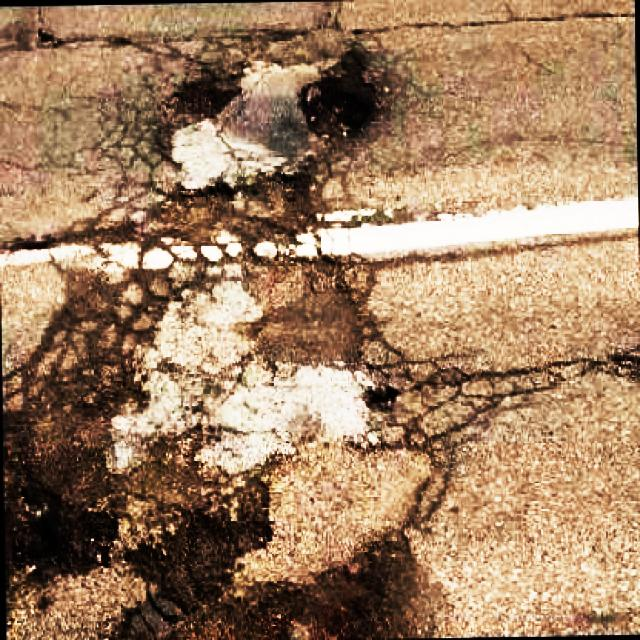pothole: (103, 494, 286, 640), (0, 438, 132, 578), (297, 41, 391, 150), (162, 58, 248, 131)
